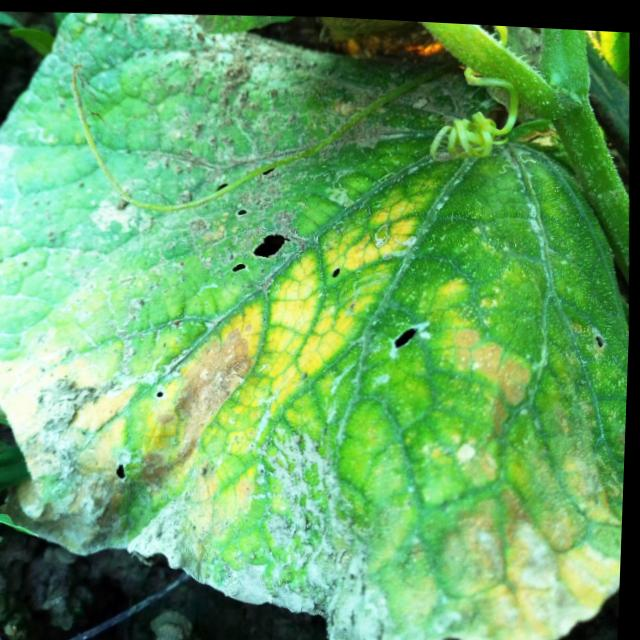Downy-Mildew: (15, 135, 630, 620)
